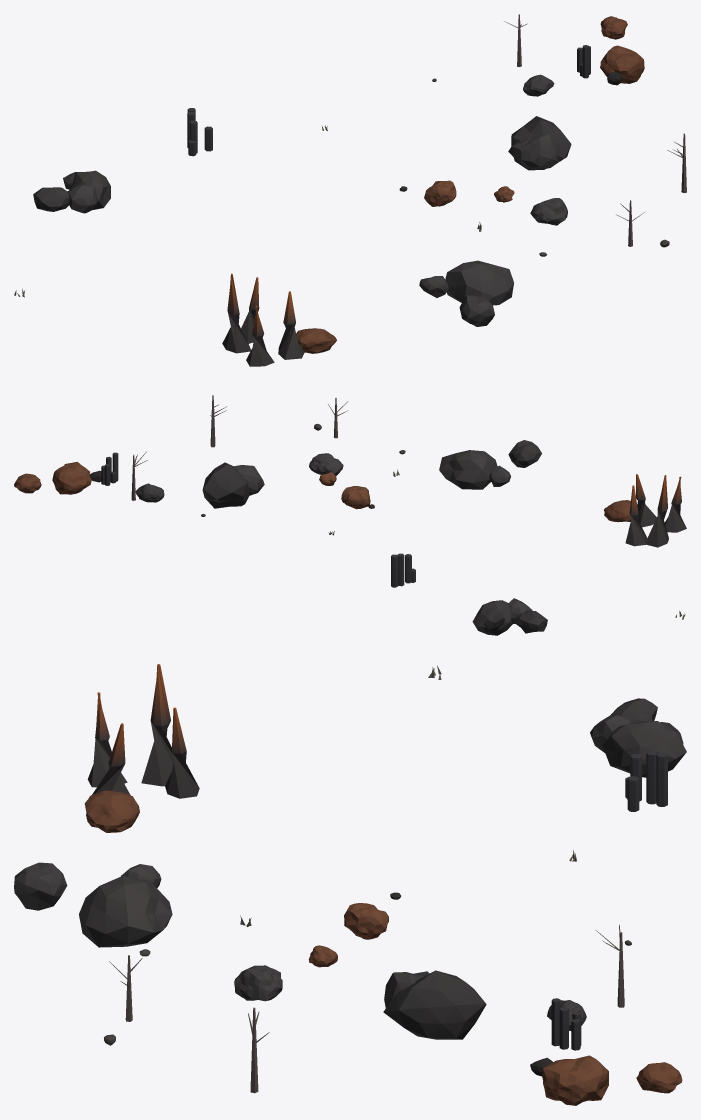
File: ash_land_scatter_c14_30.glb
The picture shows the model from 3 angles, top to bottom: view 1: azimuth 30°, elevation 25°; view 2: azimuth 150°, elevation 25°; view 3: azimuth 270°, elevation 25°; orthographic projection. The views are drawn at different scales.
Parts seen in each view (by area): view 1: ash_land_scatter_c14_30; view 2: ash_land_scatter_c14_30; view 3: ash_land_scatter_c14_30.
Boxes of the visible parts, x1,y1,x2,y2 form: ash_land_scatter_c14_30: [14, 14, 686, 366]; ash_land_scatter_c14_30: [14, 395, 686, 635]; ash_land_scatter_c14_30: [14, 664, 686, 1105].
Bounding box in the file's own units: 92.65 × 14.49 × 54.7.
